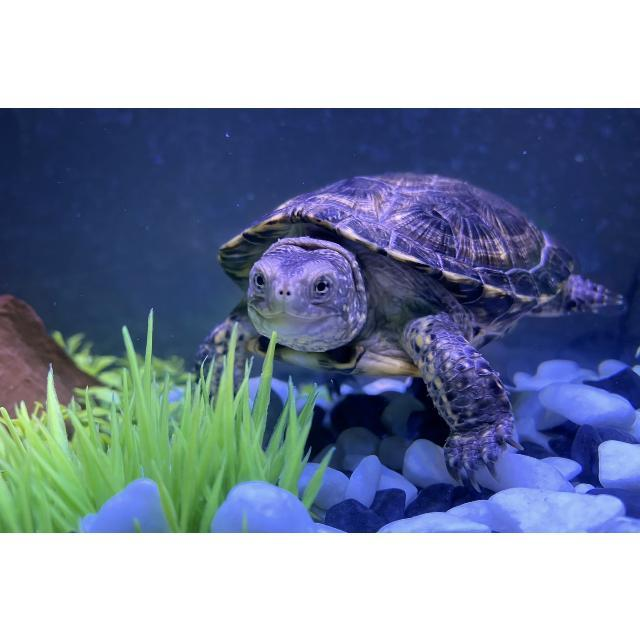turtle: (192, 174, 627, 487)
